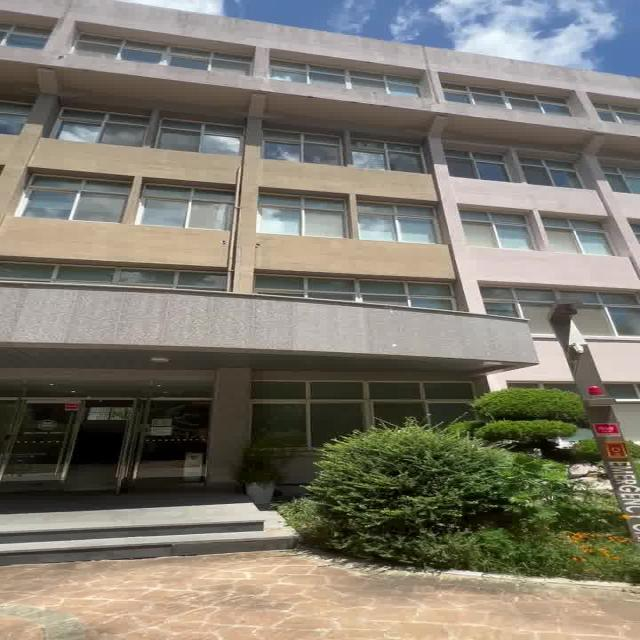building: (0, 19, 500, 404)
